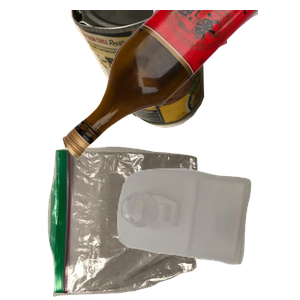glass: (60, 10, 300, 163)
metal: (68, 10, 265, 131)
plastic: (115, 166, 300, 300)
trash: (45, 144, 235, 300)
